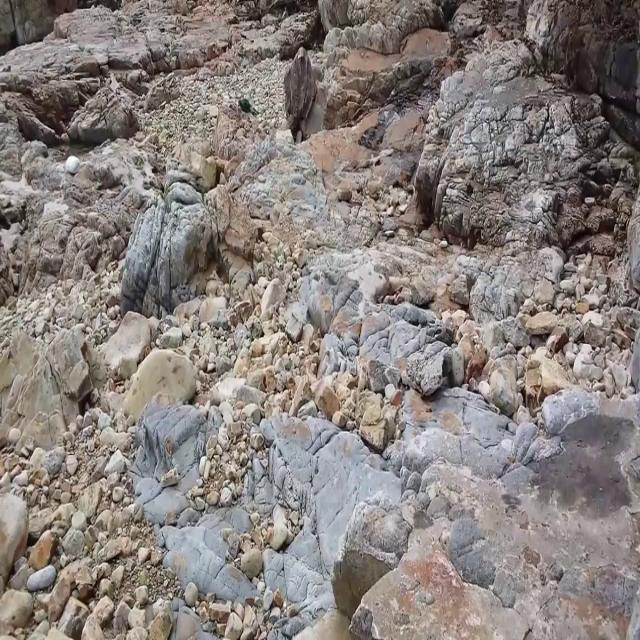Camouflage: (284, 45, 318, 147)
